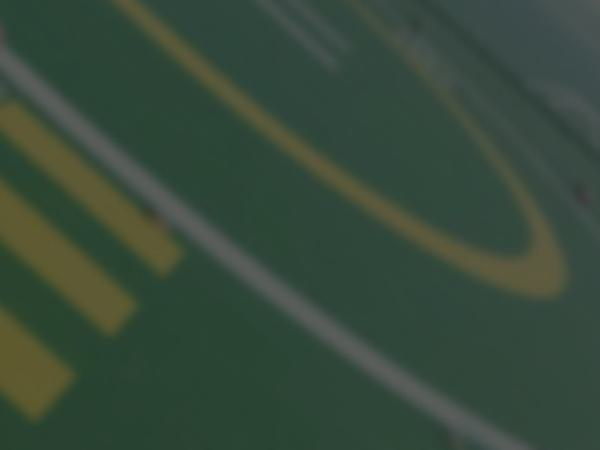Apron: (103, 1, 582, 305)
